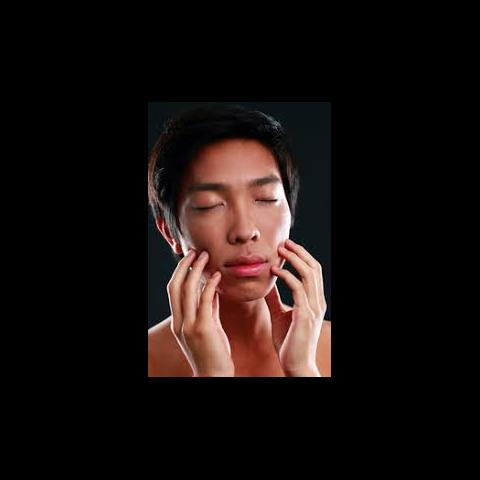closed: (174, 177, 290, 214)
